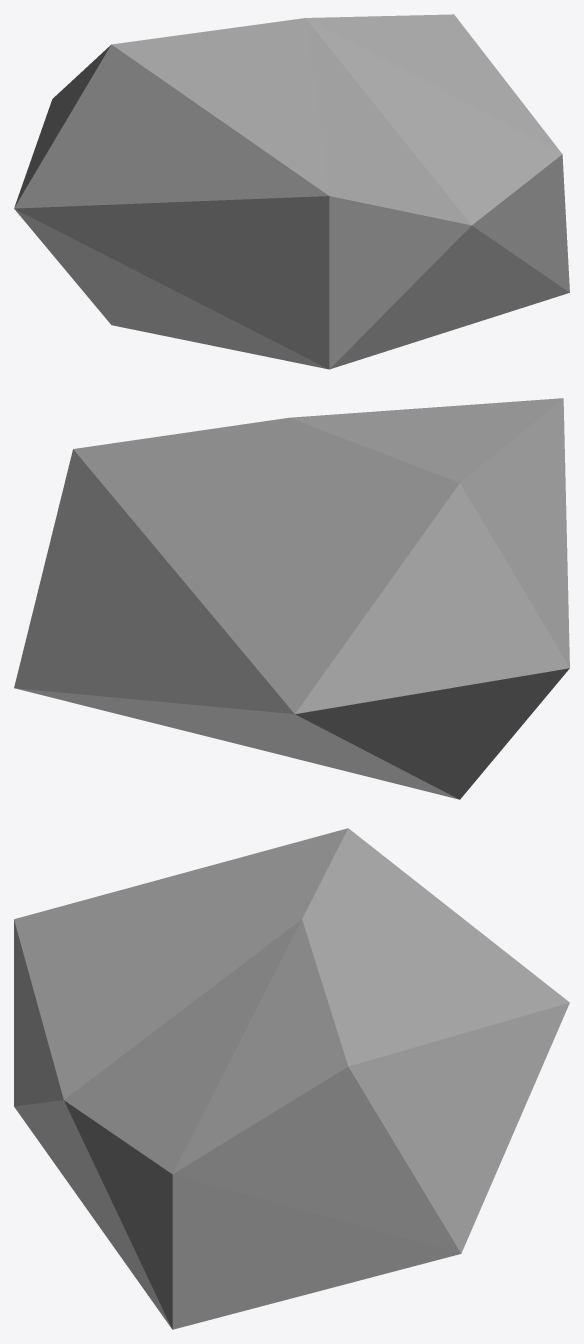
File: Isl_7_Stone_2.fbx
3 renders of one model, top to bottom at view 1: azimuth 30°, elevation 25°; view 2: azimuth 150°, elevation 25°; view 3: azimuth 270°, elevation 25°, orthographic. The views are drawn at different scales.
Parts seen in each view (by area): view 1: Isl_7_Stone_2; view 2: Isl_7_Stone_2; view 3: Isl_7_Stone_2.
Part boxes in pixels (x1,y1,x2,y2): Isl_7_Stone_2: (14, 14, 569, 369); Isl_7_Stone_2: (14, 398, 569, 799); Isl_7_Stone_2: (14, 828, 569, 1329).
Size of the model in its own units: 255 by 240 by 144.
Materials: 1 (1 with a texture image).
